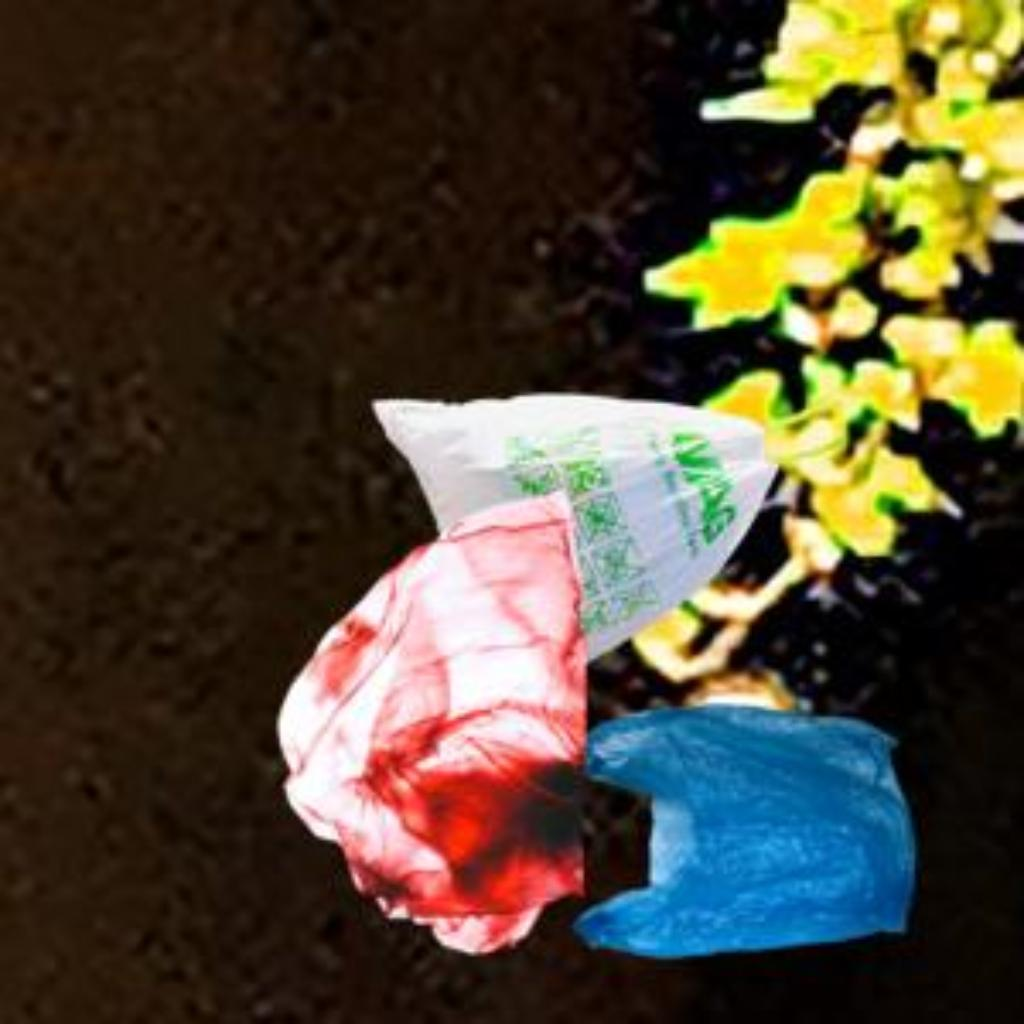garbage: (225, 463, 621, 961), (345, 340, 874, 630), (597, 686, 942, 976)
